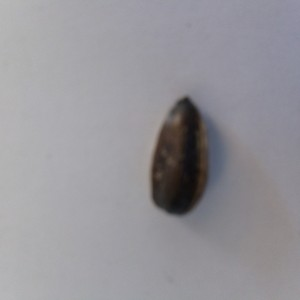girasol: (141, 91, 215, 219)
